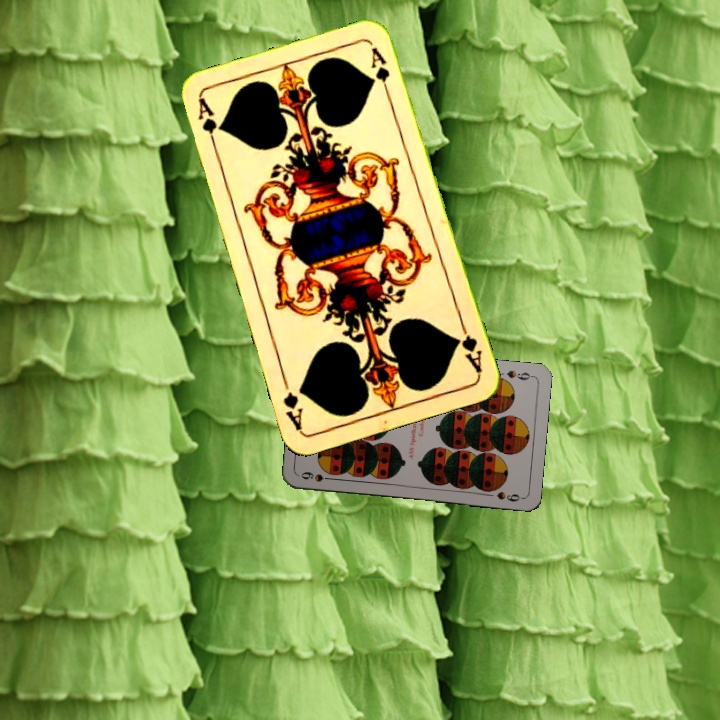GA: (452, 318, 485, 376), (193, 95, 220, 153)
S9: (297, 467, 337, 484), (503, 366, 536, 383)
